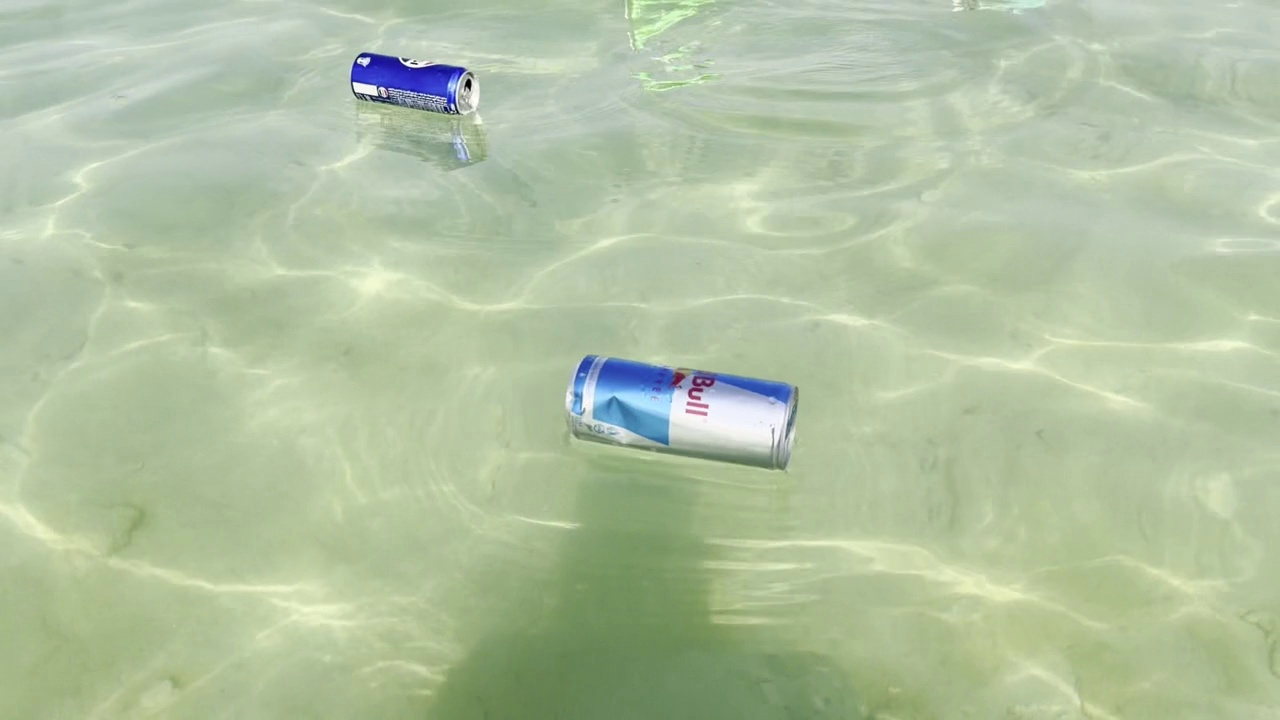debris: (549, 346, 810, 490), (342, 49, 485, 125)
